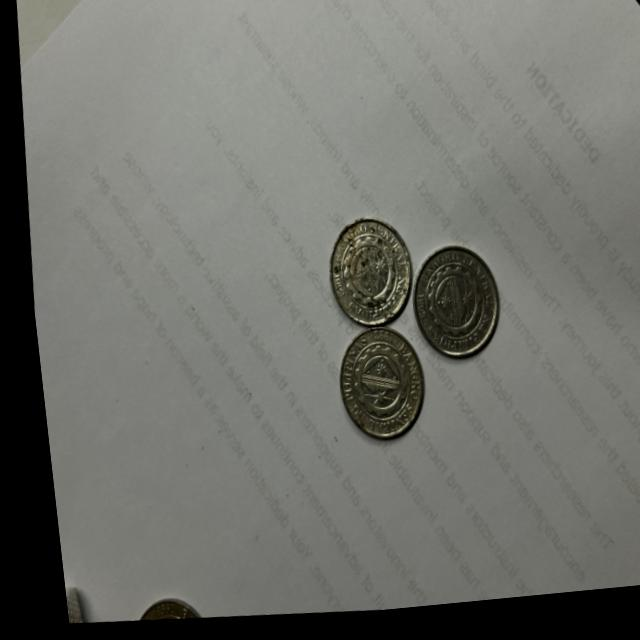1_Old_Back: (409, 259, 491, 355), (333, 345, 409, 435)
